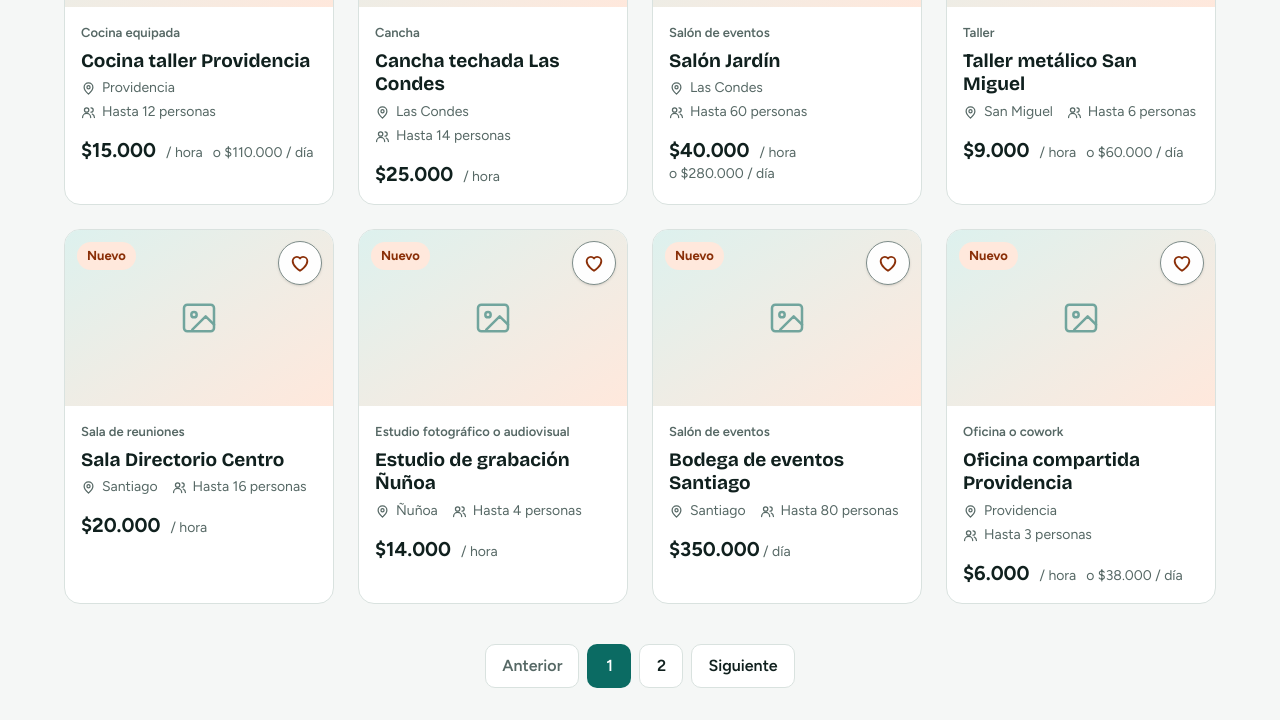
Test: CatalogPage › pagina: la página 2 muestra el resto y la URL lleva ?page
(page scrolled)
Click the link named "Página 2" at coordinates (662, 666), box [640,644,684,688]
(page scrolled)
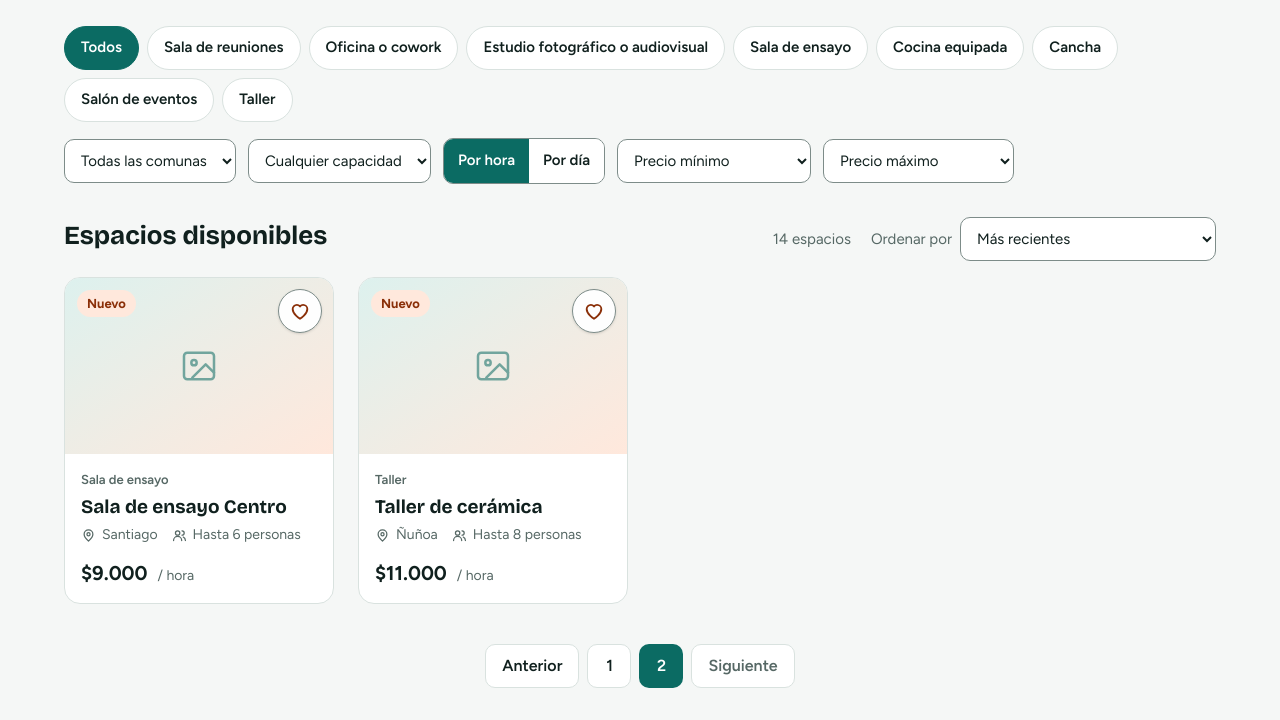
Result: the heading "Taller de cerámica" is shown at [375,495,542,518]
